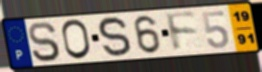5: (200, 9, 231, 50)
6: (132, 14, 162, 55)
F: (163, 11, 200, 54)
O: (60, 18, 93, 61)
S: (97, 15, 134, 59), (27, 20, 63, 63)
